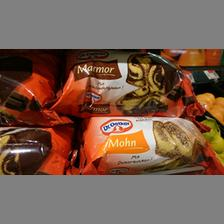Kuchen: (52, 49, 200, 115), (66, 117, 220, 172)
